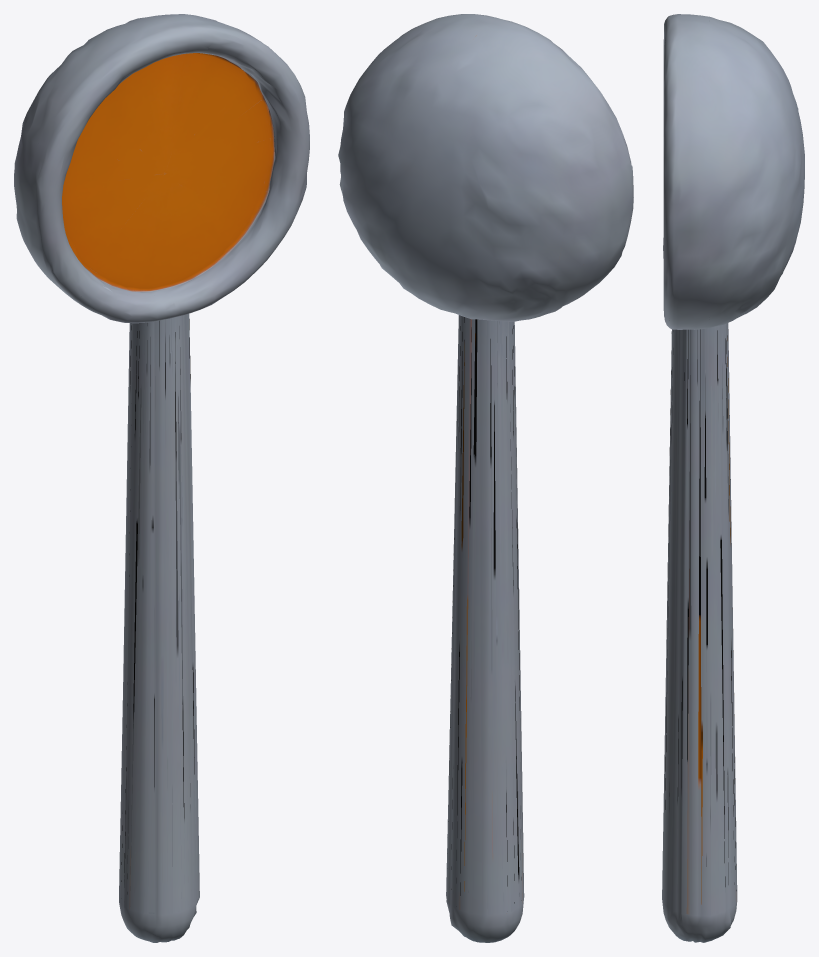
The model's file is hand_ladle.glb.
3 views of the same model, side by side, from view 1: azimuth 30°, elevation 25°; view 2: azimuth 150°, elevation 25°; view 3: azimuth 270°, elevation 25° (orthographic).
Parts seen in each view (by area): view 1: geometry_0; view 2: geometry_0; view 3: geometry_0.
Boxes of the visible parts, x1,y1,x2,y2 form: geometry_0: (14,14,309,942); geometry_0: (338,14,633,942); geometry_0: (662,14,804,942).
Bounding box in the file's own units: 0.2979 × 0.9502 × 0.1353.
1 material, 1 textured.
